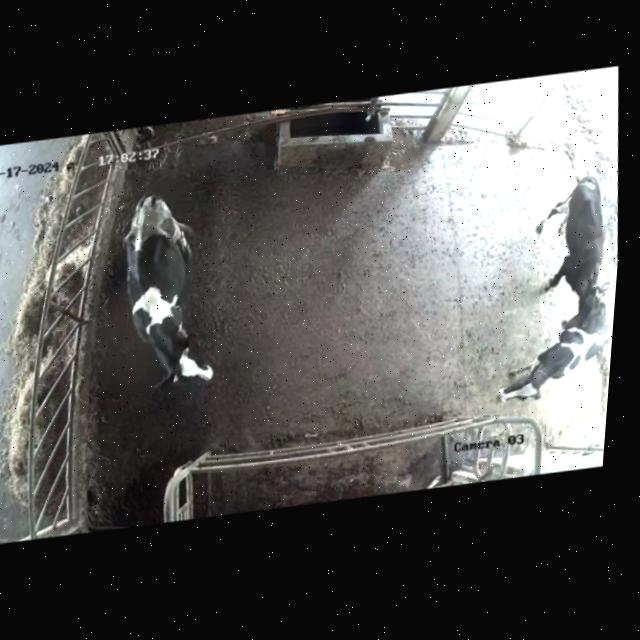stand: (106, 182, 241, 417), (523, 167, 625, 334), (498, 296, 615, 423)
